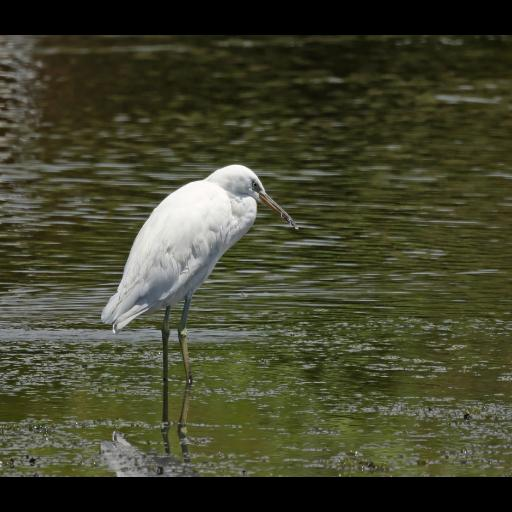chinese_egret: (101, 164, 299, 388)
